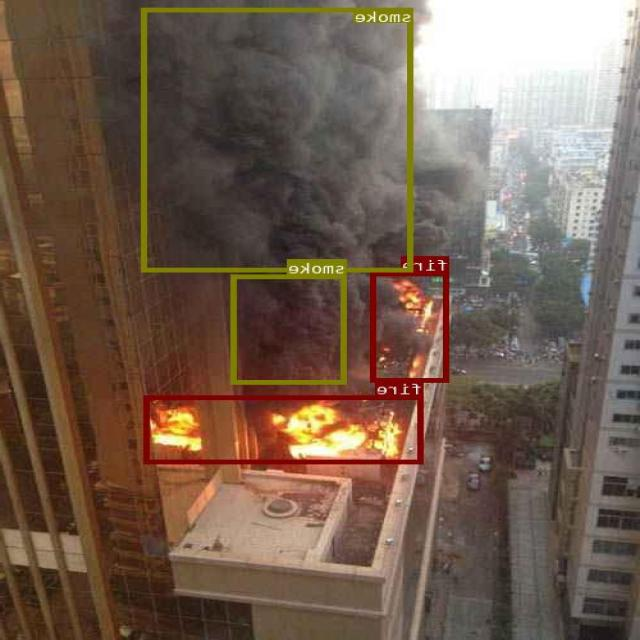fire: (145, 395, 425, 463), (372, 271, 449, 382)
smoke: (142, 8, 414, 271), (232, 274, 348, 383)
